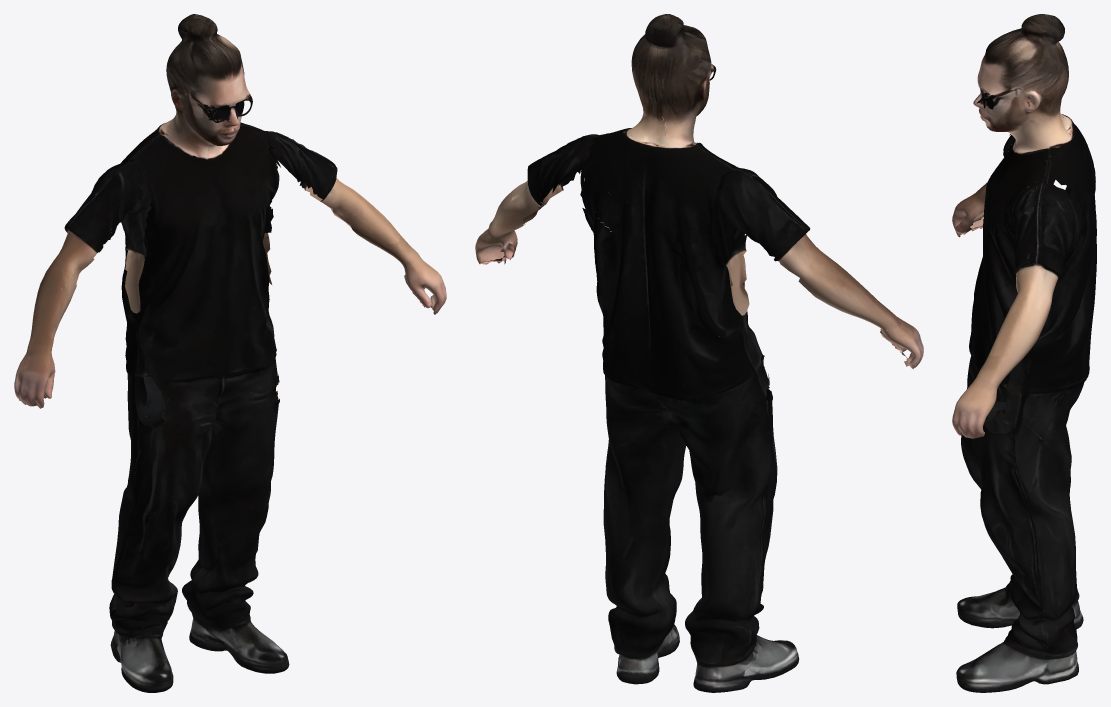
Rendered from leon.fbx.
3 views of the same model, side by side, from view 1: azimuth 30°, elevation 25°; view 2: azimuth 150°, elevation 25°; view 3: azimuth 270°, elevation 25° (orthographic). The views are drawn at different scales.
Visible parts, largest first — view 1: model; view 2: model; view 3: model.
Boxes of the visible parts, x1=… form: model: x1=14, y1=14, x2=446, y2=692; model: x1=475, y1=14, x2=923, y2=692; model: x1=952, y1=14, x2=1096, y2=692.
Bounding box in the file's own units: 1.34 × 1.9 × 0.3833.
1 material, 1 textured.
